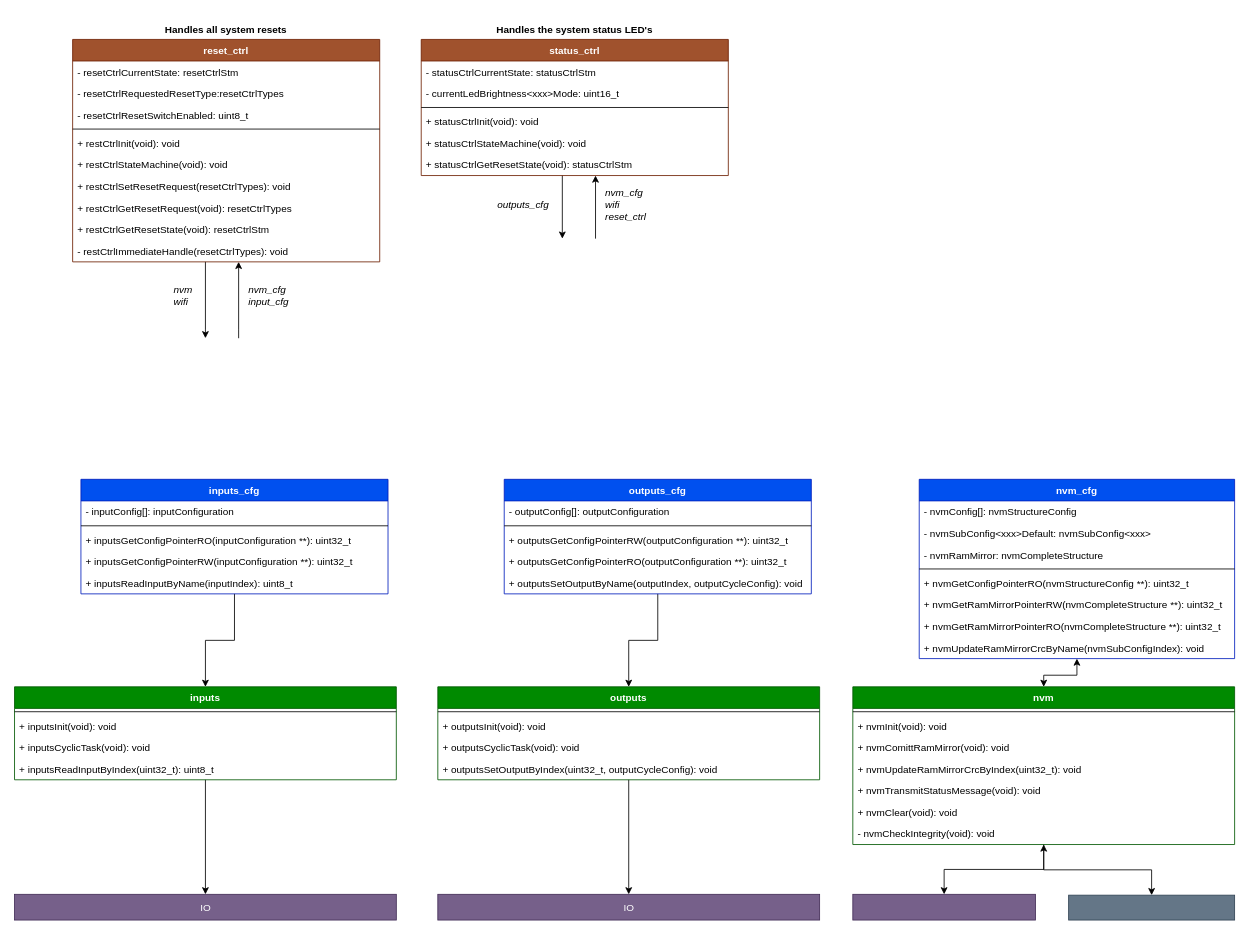
The diagram is 1249 pixels wide and 941 high, and some of its shapes have lost their labels. Here are the shapes that lost their labels. From the top down, the centre of each, then its label:
At point 943,906: "EEPROM".
At point 1151,907: "CRC32 lib".
